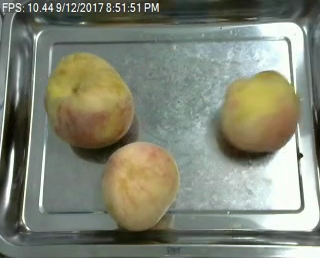Peach: (44, 50, 134, 150), (101, 141, 179, 231), (218, 71, 297, 153)
